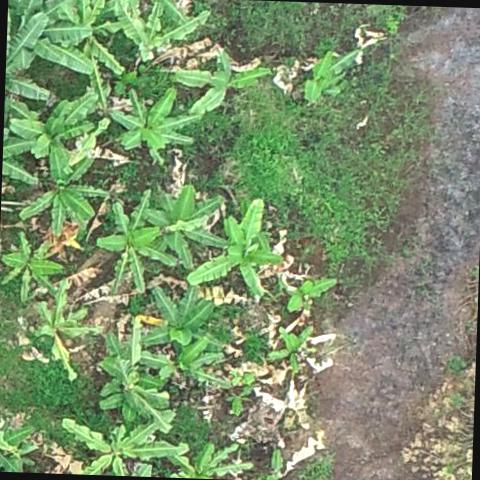Banana-plant: (178, 197, 286, 303), (129, 182, 232, 274), (4, 0, 93, 97), (90, 332, 176, 432), (59, 406, 178, 478), (168, 42, 272, 123), (17, 141, 106, 235), (23, 277, 99, 385), (94, 194, 171, 298), (10, 94, 106, 177), (132, 279, 230, 359), (100, 79, 199, 156), (47, 0, 135, 85), (110, 0, 206, 69), (157, 332, 235, 399), (0, 226, 65, 306), (160, 436, 258, 480), (302, 50, 360, 103), (268, 324, 316, 374), (284, 276, 340, 318)
